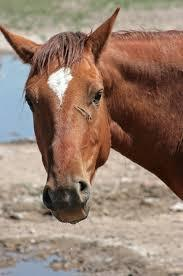cut: (65, 103, 97, 127)
